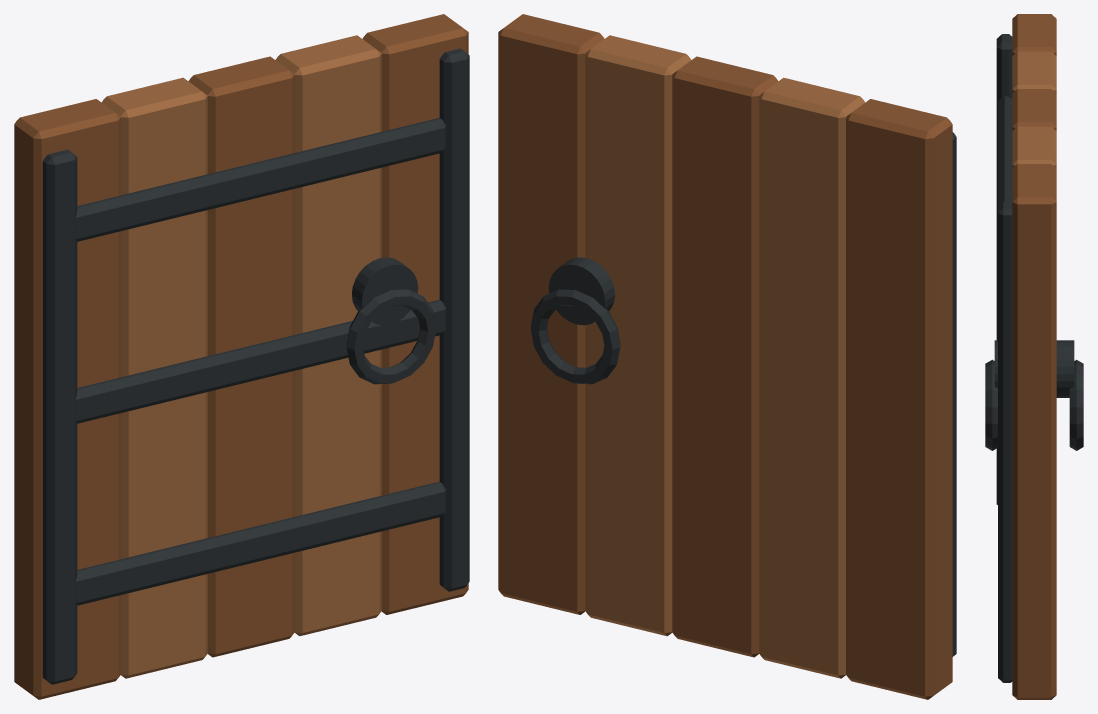
Rendered from terrace-door.glb.
3 views of the same model, side by side, from view 1: azimuth 30°, elevation 25°; view 2: azimuth 150°, elevation 25°; view 3: azimuth 270°, elevation 25° (orthographic). The views are drawn at different scales.
Visible parts, largest first — view 1: Terrace door plank 3, Terrace door plank 2, Terrace door plank 4, Terrace door plank 1, Terrace door plank 5, Terrace door hinge spine, Terrace door outer stile, Terrace door iron strap, Terrace door iron strap.002, Terrace door iron strap.001, Terrace door outside ring handle, Terrace door outside handle mount; view 2: Terrace door plank 1, Terrace door plank 3, Terrace door plank 2, Terrace door plank 4, Terrace door plank 5, Terrace door inside ring handle, Terrace door hinge spine, Terrace door inside handle mount; view 3: Terrace door plank 5, Terrace door outer stile, Terrace door hinge spine, Terrace door plank 1, Terrace door plank 3, Terrace door plank 4, Terrace door plank 2, Terrace door iron strap.002, Terrace door inside ring handle, Terrace door outside ring handle, Terrace door inside handle mount, Terrace door outside handle mount.
Boxes of the visible parts, x1,y1,x2,y2 form: Terrace door plank 3: (188,56,294,657); Terrace door plank 2: (101,77,207,678); Terrace door plank 4: (275,35,381,636); Terrace door plank 1: (14,99,120,699); Terrace door plank 5: (362,14,468,614); Terrace door hinge spine: (42,149,77,684); Terrace door outer stile: (439,48,469,591); Terrace door iron strap: (75,481,446,605); Terrace door iron strap.002: (75,117,446,241); Terrace door iron strap.001: (75,299,446,423); Terrace door outside ring handle: (346,289,435,384); Terrace door outside handle mount: (351,257,418,325); Terrace door plank 1: (846,99,952,699); Terrace door plank 3: (672,56,778,657); Terrace door plank 2: (759,77,864,678); Terrace door plank 4: (585,35,691,636); Terrace door plank 5: (498,14,604,614); Terrace door inside ring handle: (531,289,620,384); Terrace door hinge spine: (952,132,956,656); Terrace door inside handle mount: (548,257,614,325); Terrace door plank 5: (1012,164,1056,699); Terrace door outer stile: (998,201,1012,682); Terrace door hinge spine: (996,34,1012,504); Terrace door plank 1: (1012,14,1056,55); Terrace door plank 3: (1012,89,1056,130); Terrace door plank 4: (1012,126,1056,168); Terrace door plank 2: (1012,51,1056,93); Terrace door iron strap.002: (998,96,1012,205); Terrace door inside ring handle: (1069,359,1083,450); Terrace door outside ring handle: (985,359,997,450); Terrace door inside handle mount: (1056,340,1074,397); Terrace door outside handle mount: (994,340,997,387).
Bounding box in the file's own units: 1 × 1.25 × 0.2212.
